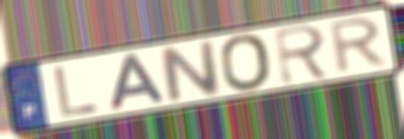A: (106, 51, 170, 113)
L: (51, 64, 102, 120)
N: (156, 38, 225, 105)
O: (217, 31, 275, 93)
R: (272, 21, 334, 87), (328, 14, 391, 77)
